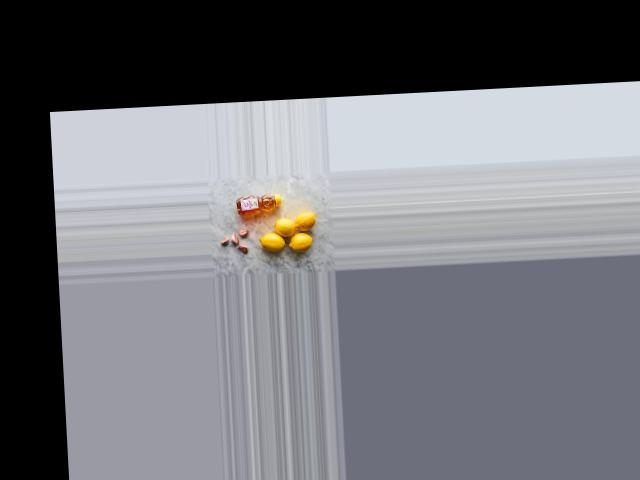lemon: (257, 228, 287, 255)
